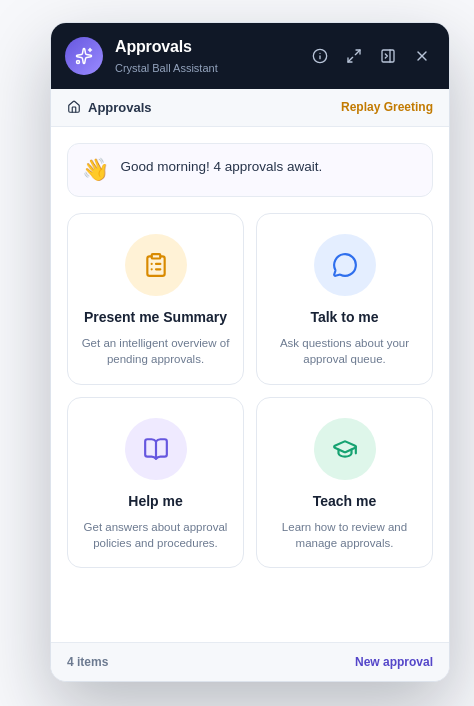
it: AssistantPanel › Talk to me: chat states › LOADING: shows the user message, a typing indicator and a disabled input before the first token
Click the button "Talk to me Ask questions about your approval queue." at (344, 299), box [256,213,433,385]
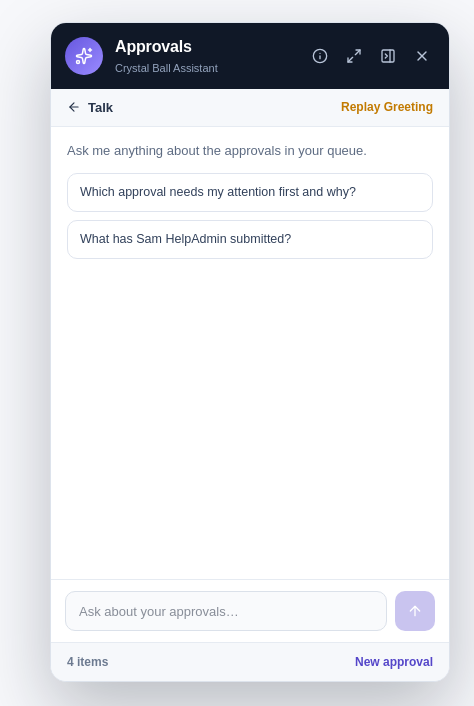
Type "Which approval needs my attention first?" into the field named "message" at (226, 611), box [65,591,387,631]
Then press Enter
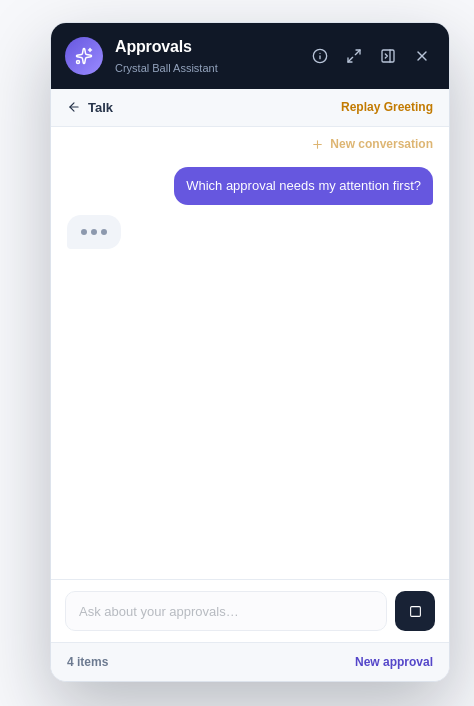
Now the text "Which approval needs my attention first?" is shown, box [186,176,421,196]
Now the message named "assistant is typing" is shown, box [81,229,107,235]
Now the field named "message" is disabled, box [65,591,387,631]
